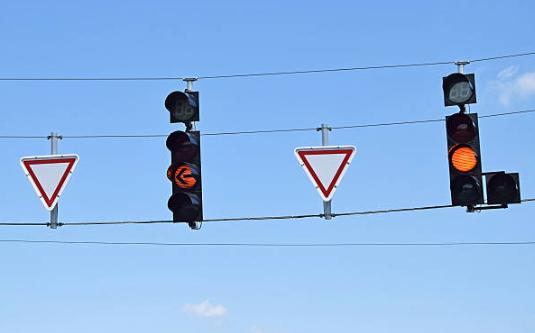yellow_light: (444, 113, 484, 206), (166, 131, 202, 223)
